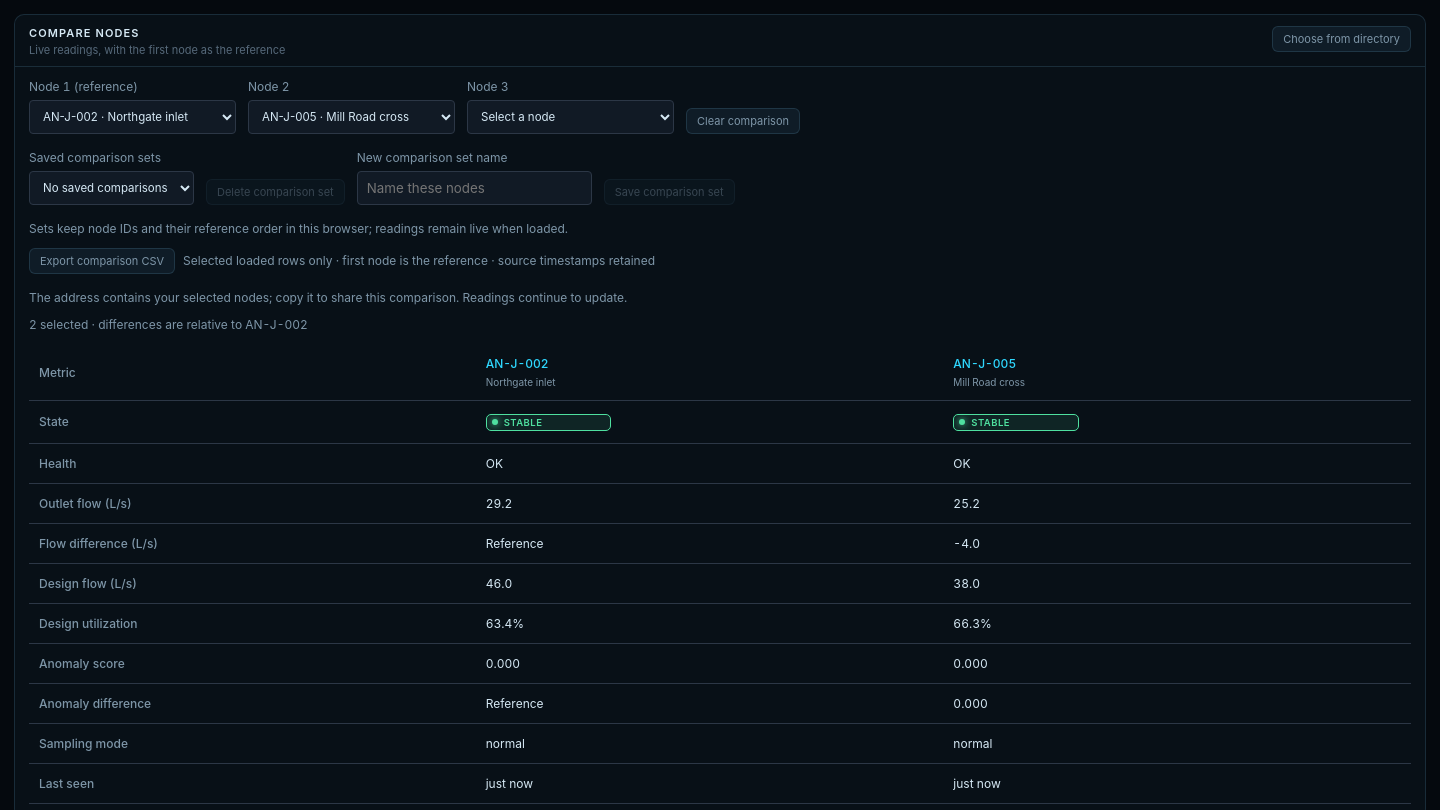
node comparison › retains changes to multiple selectors before the router commits
Expected: the table is shown, [29, 317, 1411, 804]
Select "AN-J-008 · Kingsway tie" in the dropdown labelled "Node 1 (reference)": [132, 117] box [29, 100, 236, 134]
Select "AN-J-010 · Brunton feeder" in the dropdown labelled "Node 2": [352, 117] box [248, 100, 455, 134]
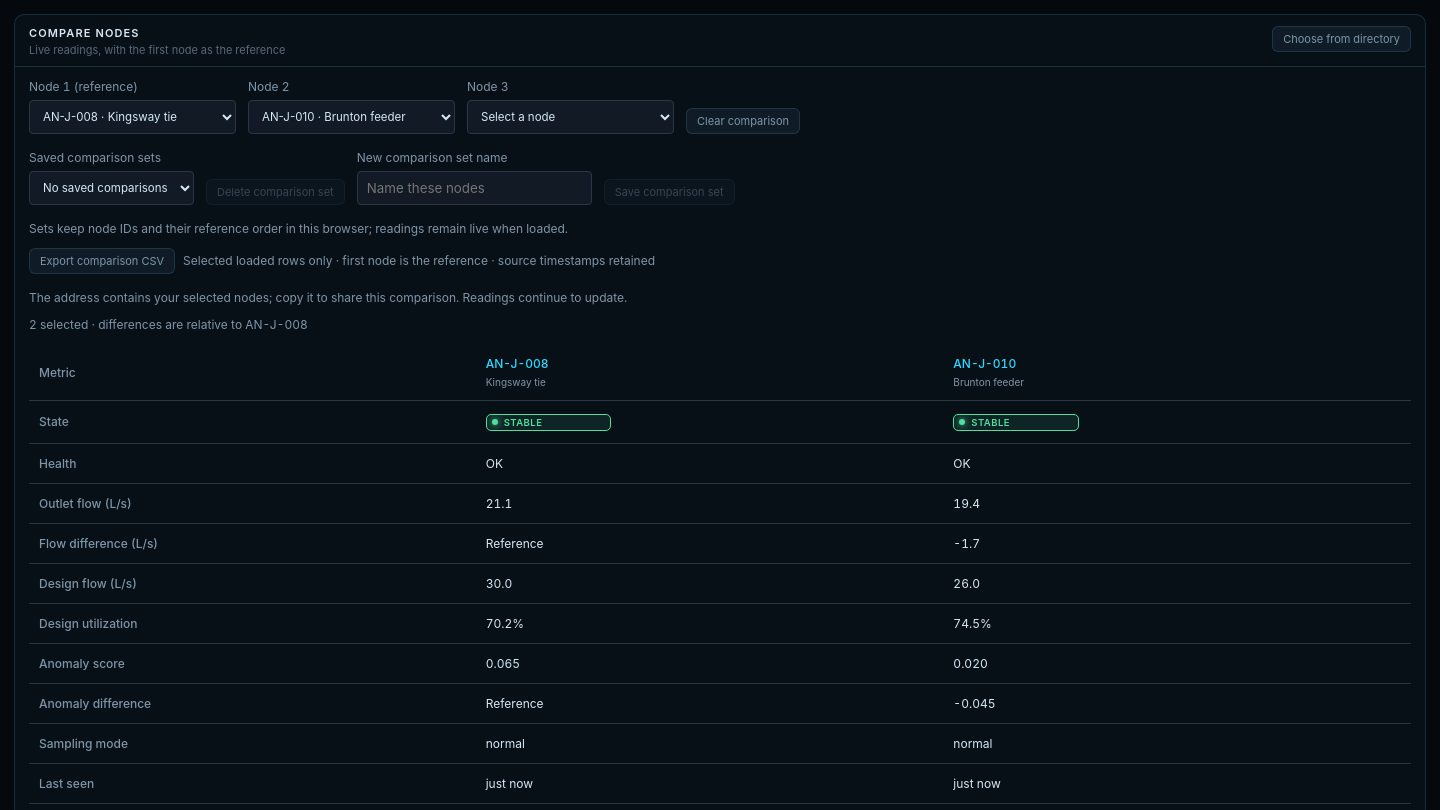
Result: the link "AN-J-008" is shown at [486, 356, 548, 371]
Result: the link "AN-J-010" is shown at [953, 356, 1016, 371]
Result: the text "AN-J-002" is gone
